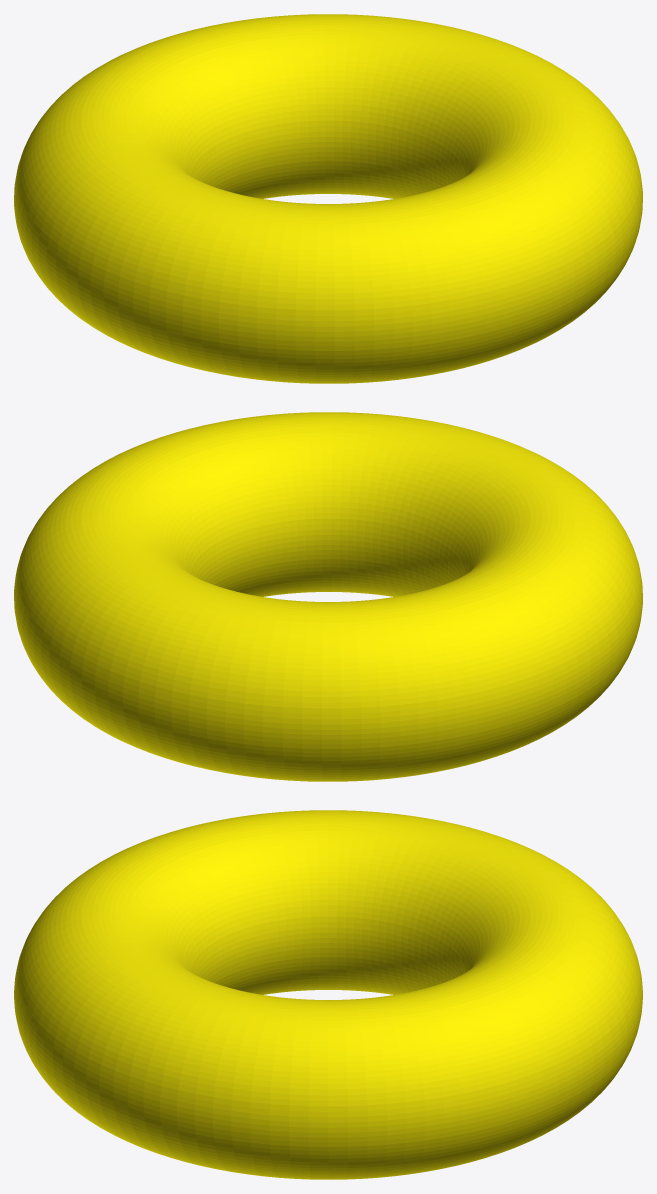
The picture shows the model from 3 angles, top to bottom: view 1: azimuth 30°, elevation 25°; view 2: azimuth 150°, elevation 25°; view 3: azimuth 270°, elevation 25°; orthographic projection.
Bounding box in the file's own units: 0.07 × 0.02 × 0.07.
